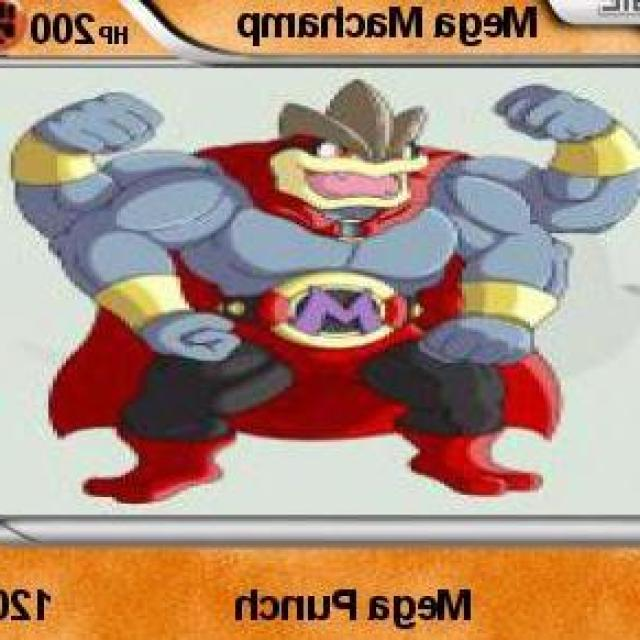Machamp: (50, 82, 580, 508)
